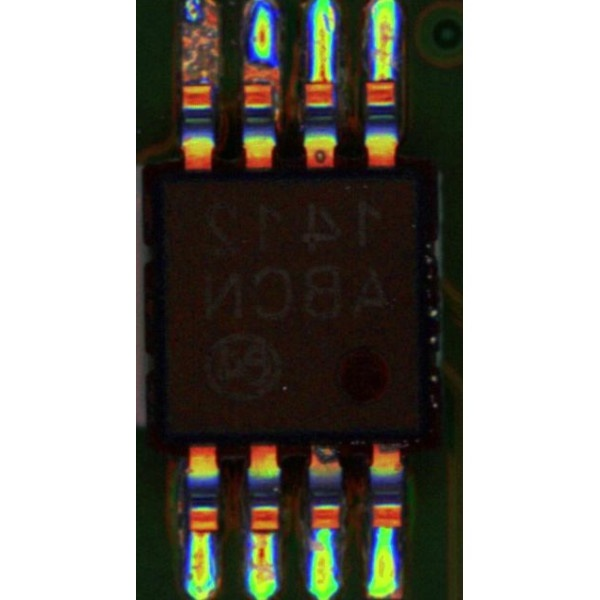Bad_podu: (315, 66, 330, 94), (252, 523, 274, 541), (373, 71, 392, 89), (192, 521, 211, 539)
